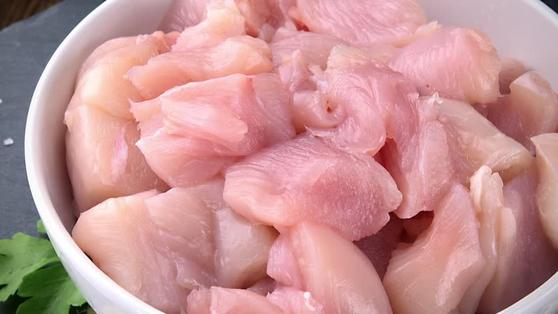chicken_fillet: (99, 180, 289, 302)
